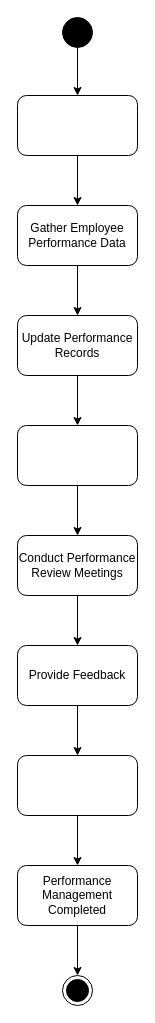
This 155x1023 diagram has some shape labels left out. Each missing label, with the box of its shape:
Performance Managment Initiated: (16, 94, 138, 156)
Performance Records Updated: (16, 424, 138, 486)
Set Performance Goals for Next Month: (16, 754, 138, 816)
